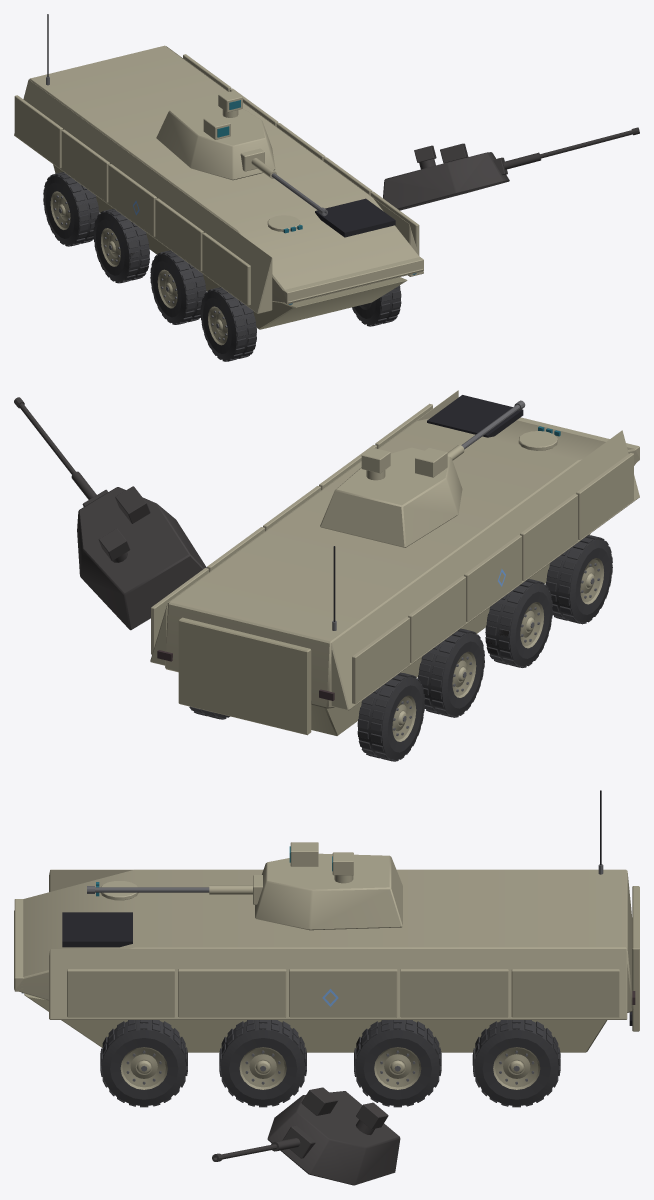
File: apc__whap.glb
3 views of the same model, one above another, from view 1: azimuth 30°, elevation 25°; view 2: azimuth 150°, elevation 25°; view 3: azimuth 270°, elevation 25° (orthographic). The views are drawn at different scales.
Parts seen in each view (by area): view 1: Hull_Mesh, Turret_Mesh, Wreck, Wheel_L1_Mesh, Wheel_L3_Mesh, Wheel_L0_Mesh, Wheel_L2_Mesh, Wheel_R3_Mesh, Gun_Mesh; view 2: Hull_Mesh, Wreck, Turret_Mesh, Wheel_L0_Mesh, Wheel_L2_Mesh, Wheel_L3_Mesh, Wheel_L1_Mesh, Gun_Mesh; view 3: Hull_Mesh, Turret_Mesh, Wreck, Wheel_R0_Mesh, Wheel_R2_Mesh, Wheel_R3_Mesh, Wheel_R1_Mesh, Gun_Mesh.
Boxes of the visible parts, x1,y1,x2,y2 form: Hull_Mesh: (14,14,423,329); Turret_Mesh: (156,91,275,180); Wreck: (58,127,639,361); Wheel_L1_Mesh: (93,208,149,283); Wheel_L3_Mesh: (200,287,256,361); Wheel_L0_Mesh: (43,172,99,246); Wheel_L2_Mesh: (150,250,206,324); Wheel_R3_Mesh: (352,285,401,326); Gun_Mesh: (240,148,327,216); Hull_Mesh: (150,390,639,735); Wreck: (14,397,589,716); Turret_Mesh: (320,447,462,547); Wheel_L0_Mesh: (357,672,424,761); Wheel_L2_Mesh: (485,579,552,667); Wheel_L3_Mesh: (545,535,612,624); Wheel_L1_Mesh: (418,628,484,717); Gun_Mesh: (447,400,525,460); Hull_Mesh: (14,790,639,1052); Turret_Mesh: (255,842,402,930); Wreck: (212,1038,400,1185); Wheel_R0_Mesh: (472,1020,560,1107); Wheel_R2_Mesh: (219,1020,306,1107); Wheel_R3_Mesh: (100,1020,187,1107); Wheel_R1_Mesh: (354,1020,441,1107); Gun_Mesh: (87,875,262,904).
Size of what is drawn, in the model's own units: 7.96 by 3.31 by 8.
